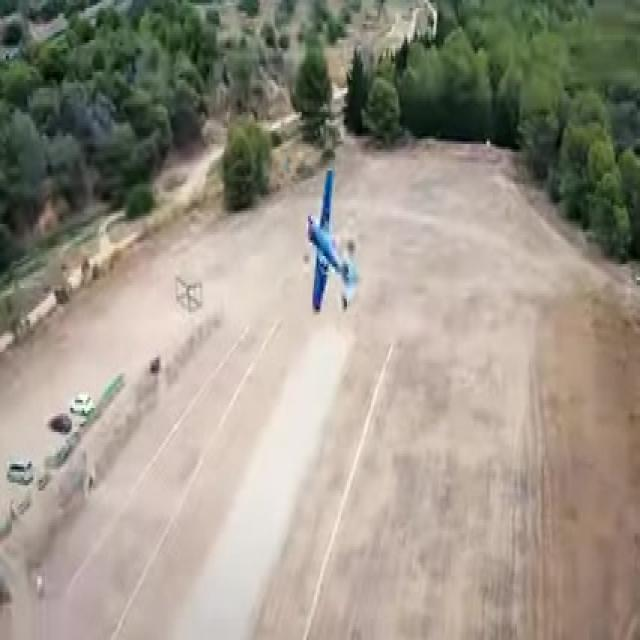iha: (302, 161, 365, 317)
